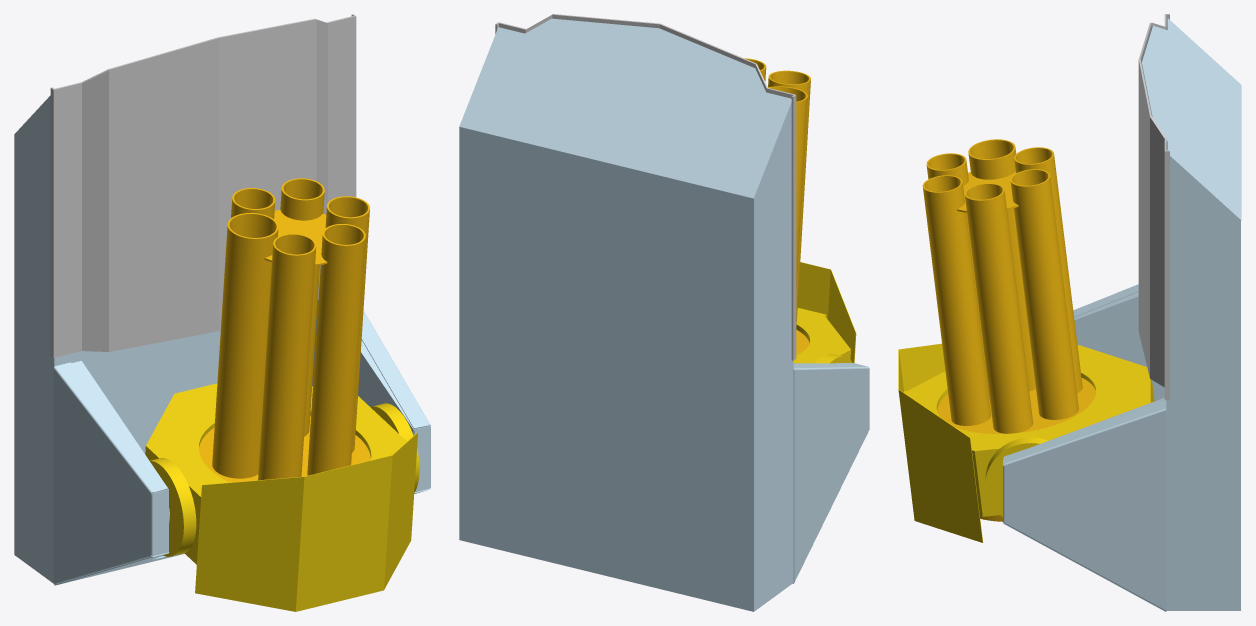
The model's file is javelin_low.gltf.
3 views of the same model, side by side, from view 1: azimuth 30°, elevation 25°; view 2: azimuth 150°, elevation 25°; view 3: azimuth 270°, elevation 25° (orthographic). The views are drawn at different scales.
Visible parts, largest first — view 1: mesh170_meshnode_170, mesh94_meshnode_94, mesh174_meshnode_174, mesh97_meshnode_97, mesh152_meshnode_152, mesh158_meshnode_158, mesh213_meshnode_213, mesh218_meshnode_218, mesh207_meshnode_207, mesh10_meshnode_10, mesh167_meshnode_167, mesh168_meshnode_168 (+24 smaller); view 2: mesh89_meshnode_89, mesh105_meshnode_105, mesh94_meshnode_94, mesh97_meshnode_97, mesh143_meshnode_143, mesh148_meshnode_148, mesh213_meshnode_213, mesh149_meshnode_149, mesh165_meshnode_165, mesh207_meshnode_207, mesh164_meshnode_164; view 3: mesh91_meshnode_91, mesh22_meshnode_22, mesh105_meshnode_105, mesh227_meshnode_227, mesh228_meshnode_228, mesh218_meshnode_218, mesh157_meshnode_157, mesh143_meshnode_143, mesh176_meshnode_176, mesh66_meshnode_66, mesh174_meshnode_174, mesh213_meshnode_213 (+13 smaller).
Part boxes in pixels (left/top/right/bottom): mesh170_meshnode_170: left=109, top=38, right=218, bottom=351; mesh94_meshnode_94: left=14, top=95, right=54, bottom=583; mesh174_meshnode_174: left=219, top=19, right=316, bottom=330; mesh97_meshnode_97: left=53, top=369, right=150, bottom=583; mesh152_meshnode_152: left=195, top=477, right=304, bottom=611; mesh158_meshnode_158: left=295, top=455, right=392, bottom=611; mesh213_meshnode_213: left=212, top=226, right=278, bottom=478; mesh218_meshnode_218: left=307, top=235, right=365, bottom=475; mesh207_meshnode_207: left=258, top=245, right=316, bottom=480; mesh10_meshnode_10: left=81, top=331, right=220, bottom=453; mesh167_meshnode_167: left=53, top=83, right=81, bottom=357; mesh168_meshnode_168: left=82, top=70, right=108, bottom=351; mesh89_meshnode_89: left=459, top=127, right=753, bottom=611; mesh105_meshnode_105: left=459, top=18, right=791, bottom=198; mesh94_meshnode_94: left=754, top=102, right=793, bottom=611; mesh97_meshnode_97: left=794, top=369, right=869, bottom=581; mesh143_meshnode_143: left=793, top=308, right=850, bottom=363; mesh148_meshnode_148: left=797, top=262, right=830, bottom=318; mesh213_meshnode_213: left=796, top=98, right=807, bottom=289; mesh149_meshnode_149: left=827, top=270, right=855, bottom=362; mesh165_meshnode_165: left=793, top=95, right=796, bottom=360; mesh207_meshnode_207: left=768, top=78, right=810, bottom=326; mesh164_meshnode_164: left=791, top=96, right=793, bottom=360; mesh91_meshnode_91: left=1166, top=156, right=1241, bottom=610; mesh22_meshnode_22: left=1005, top=411, right=1166, bottom=609; mesh105_meshnode_105: left=1142, top=18, right=1241, bottom=220; mesh227_meshnode_227: left=965, top=191, right=1033, bottom=433; mesh228_meshnode_228: left=1010, top=177, right=1078, bottom=419; mesh218_meshnode_218: left=923, top=183, right=991, bottom=425; mesh157_meshnode_157: left=898, top=389, right=982, bottom=542; mesh143_meshnode_143: left=904, top=345, right=1150, bottom=450; mesh176_meshnode_176: left=1150, top=117, right=1164, bottom=387; mesh66_meshnode_66: left=1074, top=296, right=1164, bottom=400; mesh174_meshnode_174: left=1138, top=60, right=1149, bottom=377; mesh213_meshnode_213: left=968, top=147, right=1035, bottom=391.
Bounding box in the file's own units: 0.5651 × 0.9323 × 0.5972.
